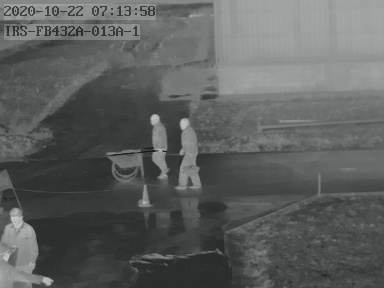person: (1, 208, 50, 288), (145, 111, 174, 180), (176, 115, 201, 190)
